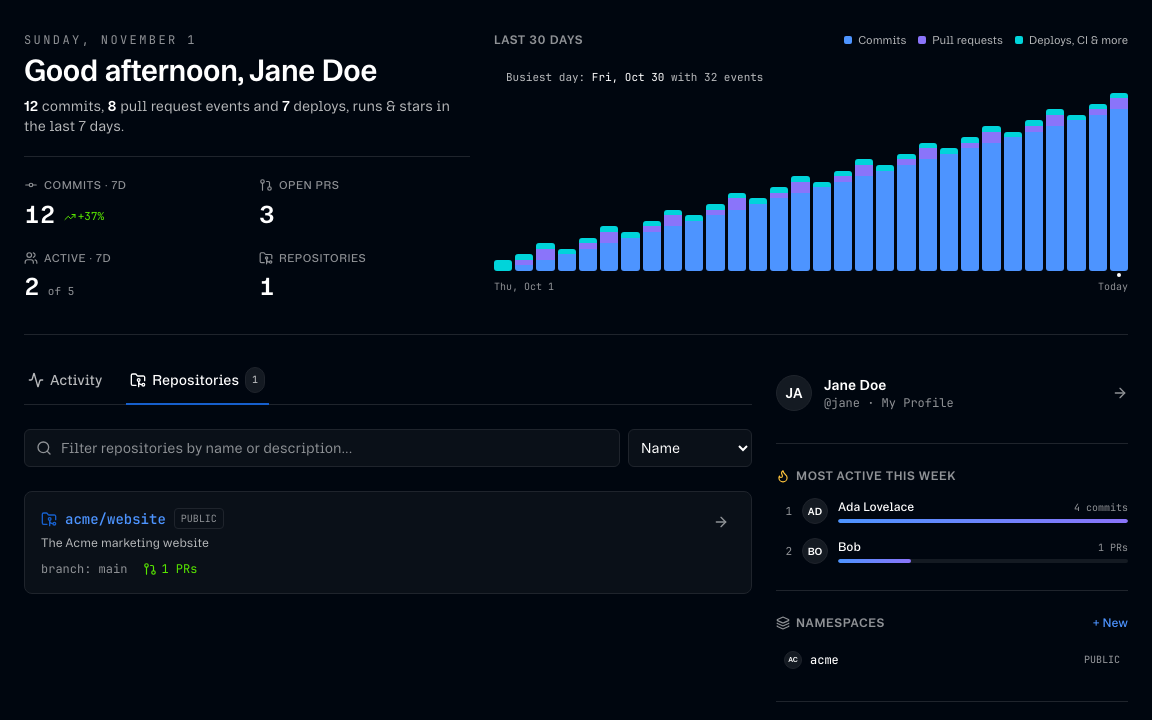
it: Dashboard › filters repositories by search text
The image size is (1152, 720).
Check: the link "acme/website" is shown, box [65, 508, 166, 528]
Type "nomatch" into the field with placeholder "Filter repositories by name or description...". click: (322, 448)
box: [24, 429, 620, 467]
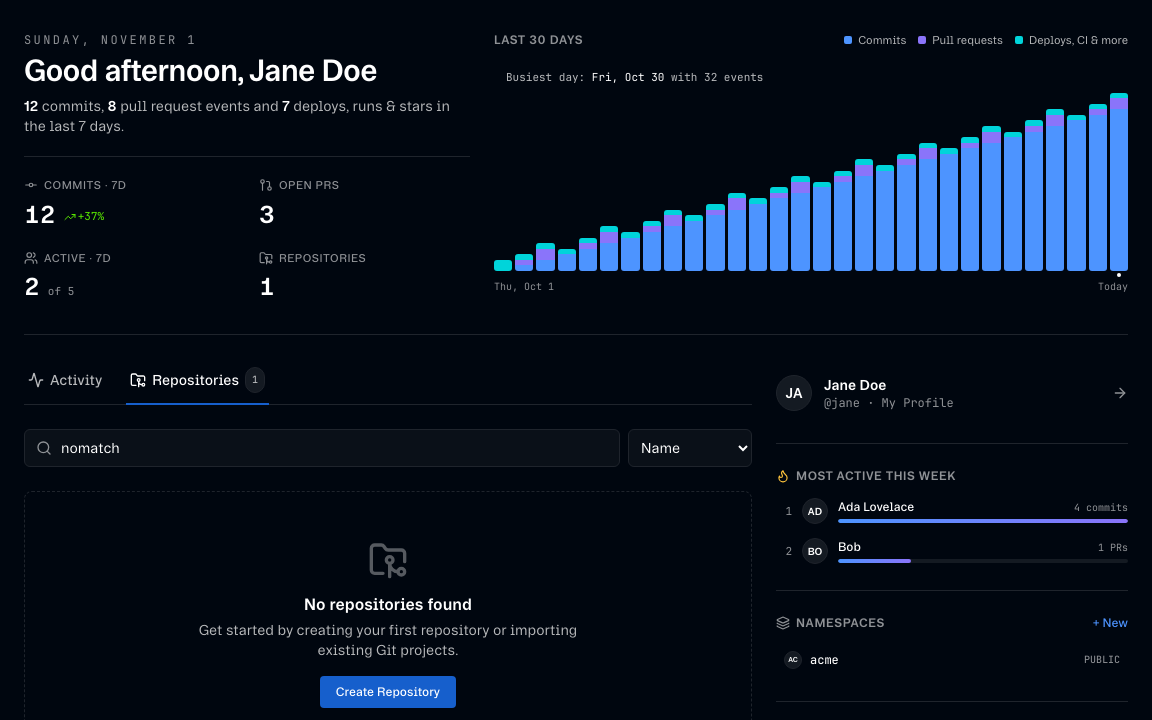
Check: the heading "No repositories found" is shown, box [304, 595, 472, 613]
